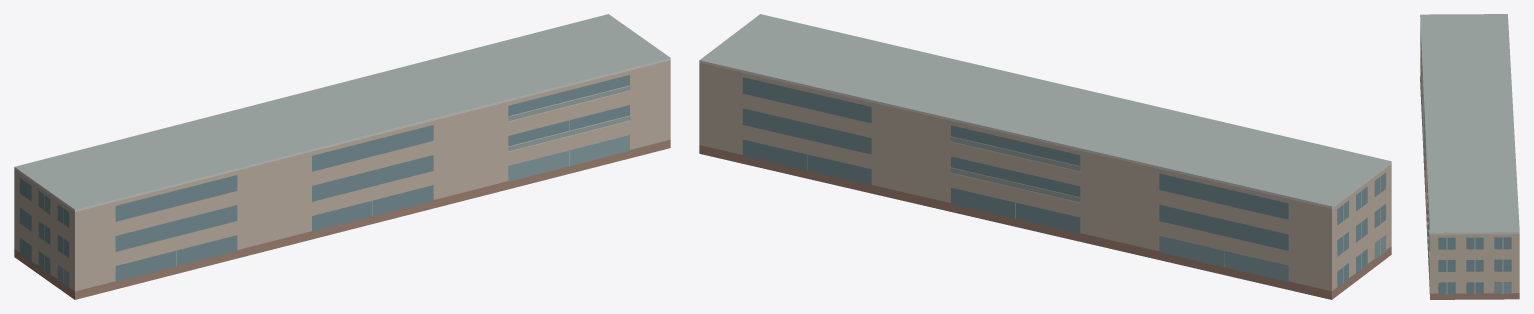
The model's file is survey-upis-32736849.glb.
The picture shows the model from 3 angles, left to right: view 1: azimuth 30°, elevation 25°; view 2: azimuth 150°, elevation 25°; view 3: azimuth 270°, elevation 25°; orthographic projection. The views are drawn at different scales.
Visible parts, largest first — view 1: survey-upis-32736849.tmp; view 2: survey-upis-32736849.tmp; view 3: survey-upis-32736849.tmp.
Part boxes in pixels (x1,y1,x2,y2): survey-upis-32736849.tmp: (14, 14, 670, 299); survey-upis-32736849.tmp: (699, 14, 1391, 299); survey-upis-32736849.tmp: (1420, 14, 1519, 299).
Bounding box in the file's own units: 64.08 × 9.15 × 12.34.
